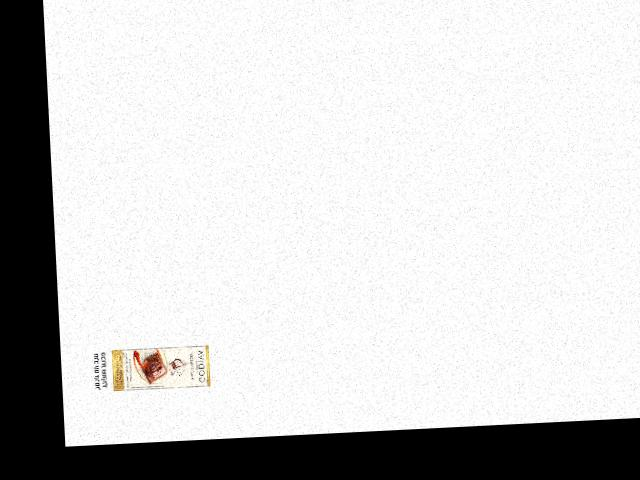chocolate: (107, 341, 212, 390)
